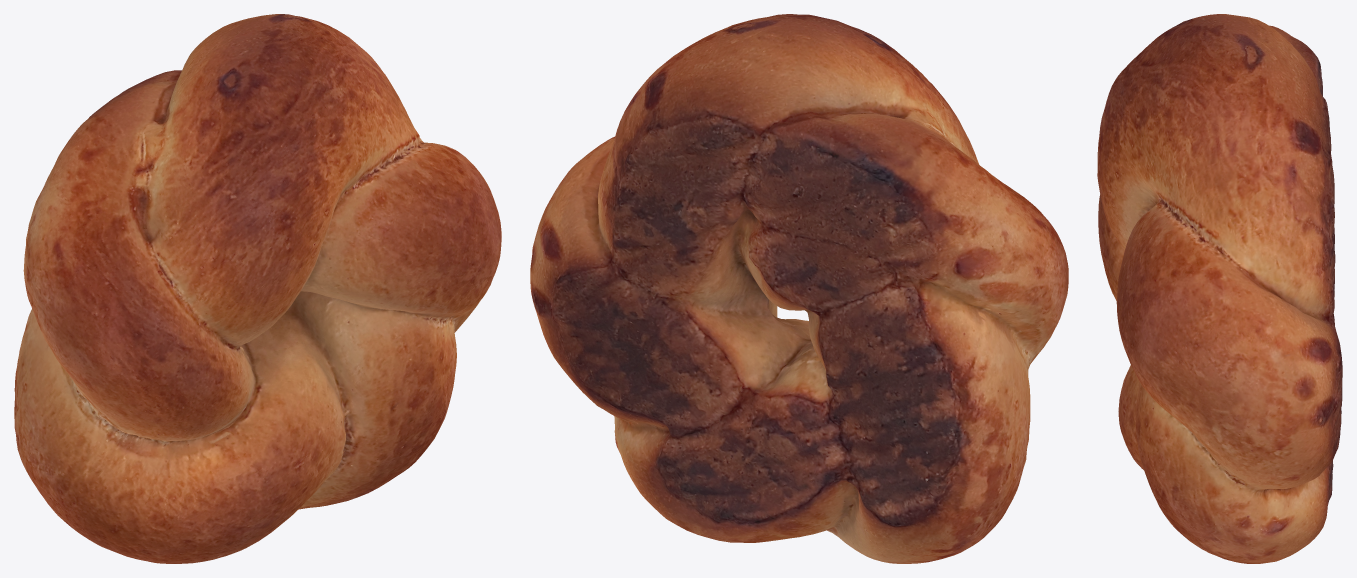
The model's file is 3d_scanned_yeast_plait.glb.
The picture shows the model from 3 angles, left to right: view 1: azimuth 30°, elevation 25°; view 2: azimuth 150°, elevation 25°; view 3: azimuth 270°, elevation 25°; orthographic projection. The views are drawn at different scales.
Parts seen in each view (by area): view 1: yeast-dough_0; view 2: yeast-dough_0; view 3: yeast-dough_0.
Boxes of the visible parts, x1=… form: yeast-dough_0: x1=14, y1=14, x2=501, y2=563; yeast-dough_0: x1=530, y1=14, x2=1068, y2=563; yeast-dough_0: x1=1097, y1=14, x2=1342, y2=563.
Size of the model in its own units: 0.0535 by 0.0544 by 0.0243.
1 material, 1 textured.
